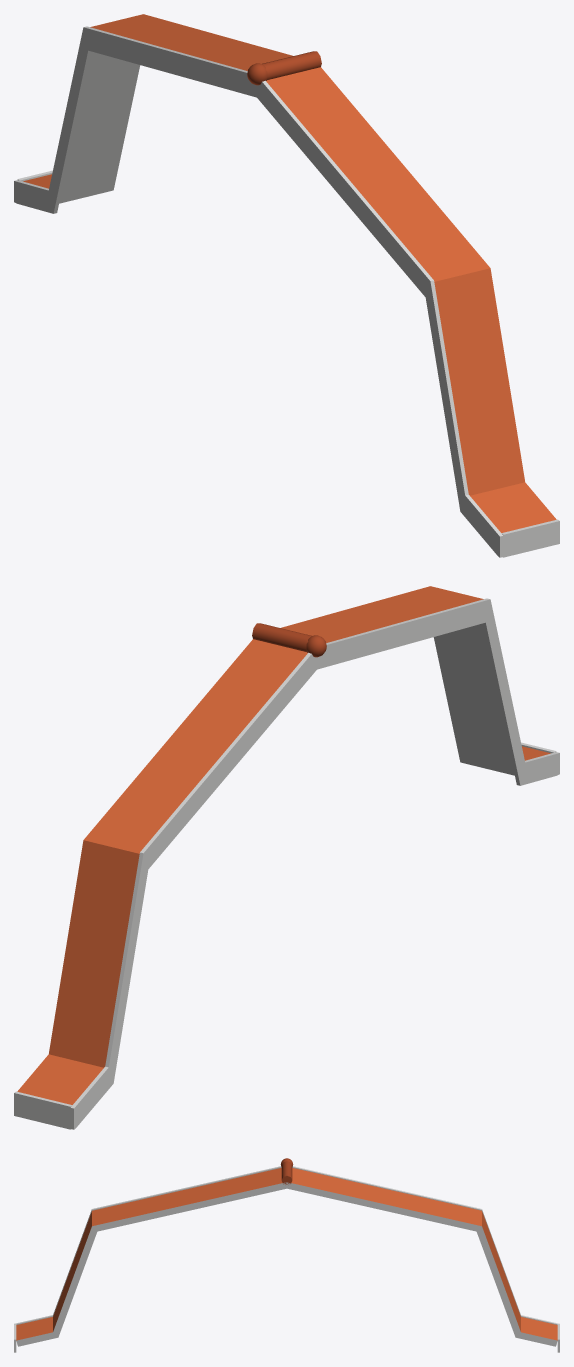
File: telhado_mansarda_empena_v6.glb
The picture shows the model from 3 angles, top to bottom: view 1: azimuth 30°, elevation 25°; view 2: azimuth 150°, elevation 25°; view 3: azimuth 270°, elevation 25°; orthographic projection. The views are drawn at different scales.
Visible parts, largest first — view 1: telhado_mansarda_empena_v6; view 2: telhado_mansarda_empena_v6; view 3: telhado_mansarda_empena_v6.
Part boxes in pixels (bbox=[...]): telhado_mansarda_empena_v6: bbox=[14, 14, 559, 557]; telhado_mansarda_empena_v6: bbox=[14, 586, 559, 1129]; telhado_mansarda_empena_v6: bbox=[14, 1158, 559, 1352].
Bounding box in the file's own units: 0.57 × 2.51 × 7.
